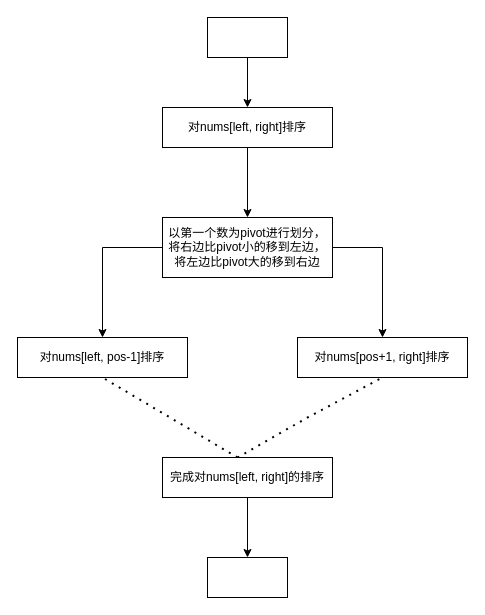
This 485x615 diagram has some shape labels left out. Here are the shapes that lost their labels. From the top down, the box of each, then its label:
(206, 16, 288, 58): 开始
(206, 556, 288, 598): 结束
